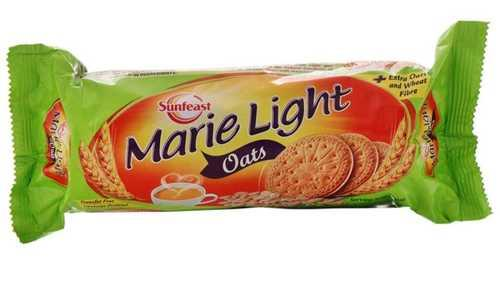MarieLight: (3, 21, 492, 246)
